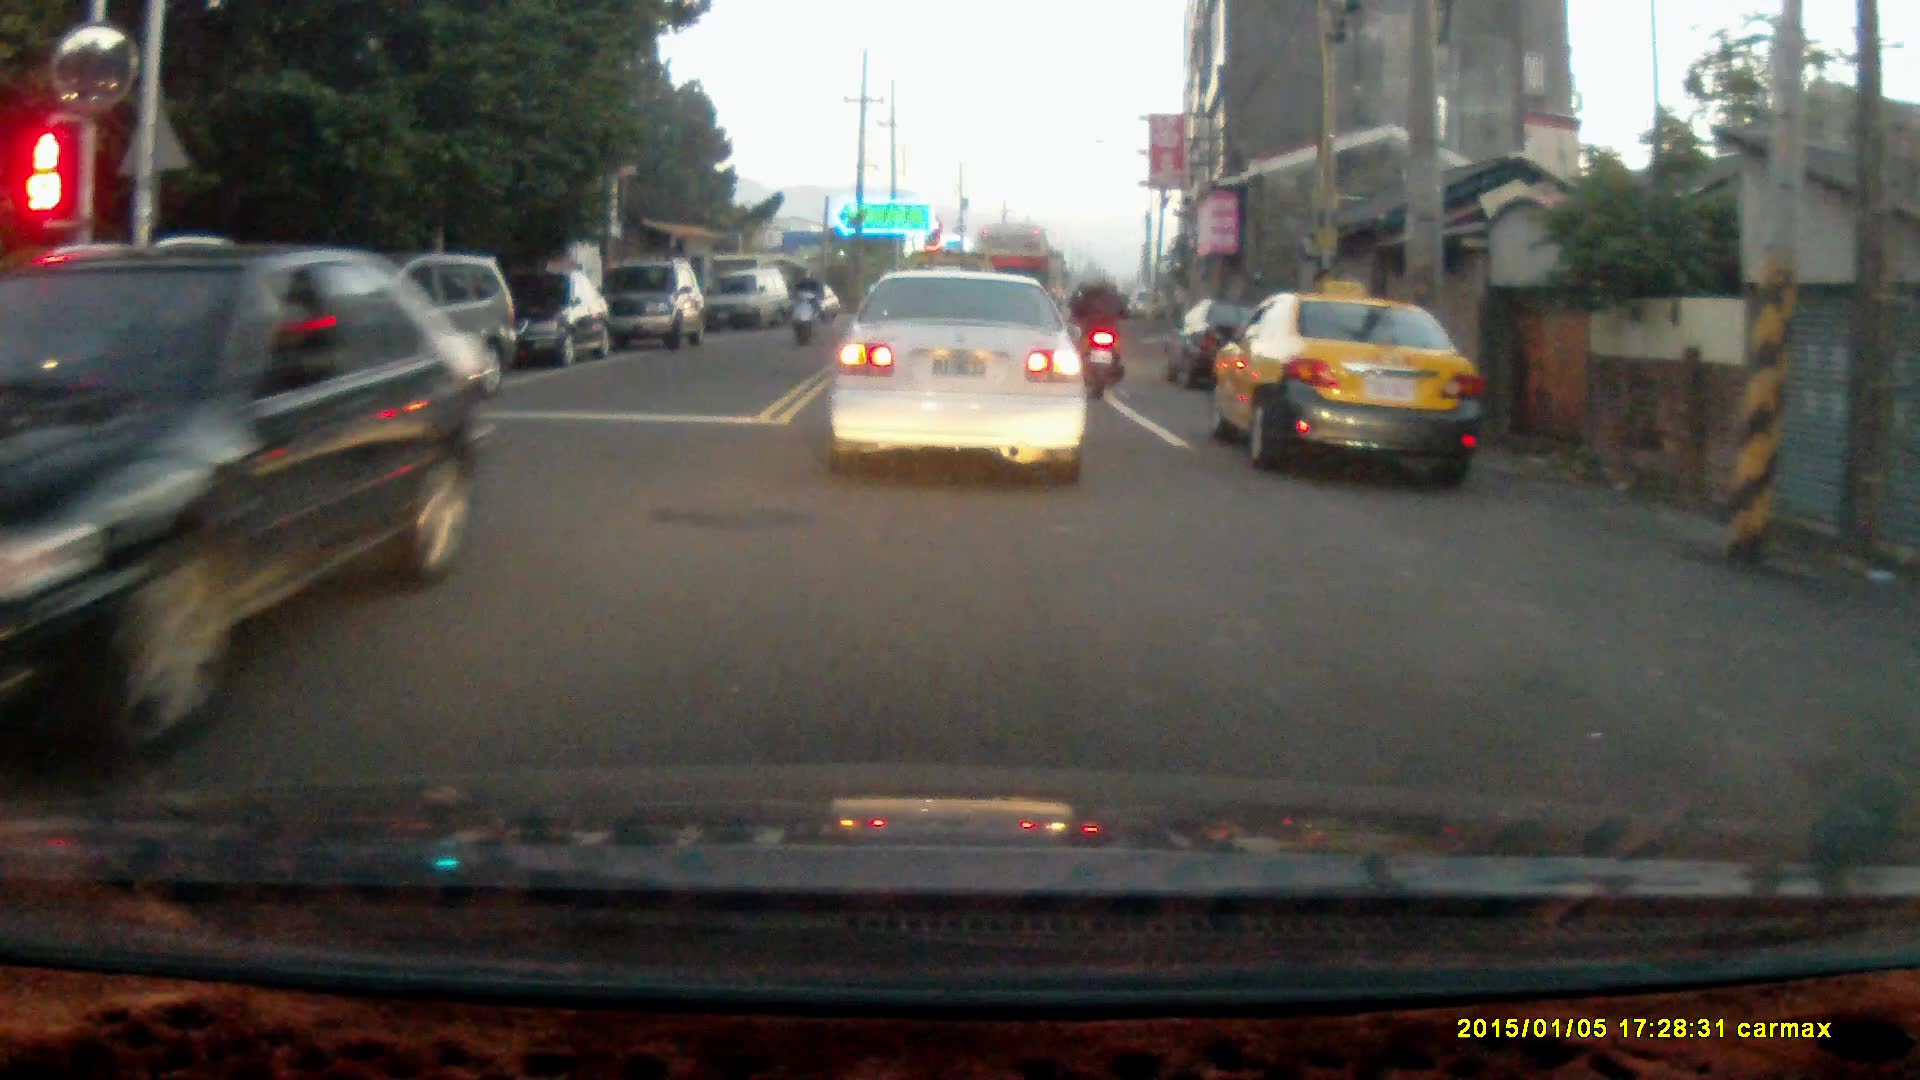rider: (1068, 267, 1128, 403), (786, 267, 821, 348)
vehicle: (1, 267, 503, 734), (824, 282, 1099, 498), (1216, 294, 1485, 489), (475, 270, 611, 371), (602, 266, 703, 361), (711, 270, 794, 336)
